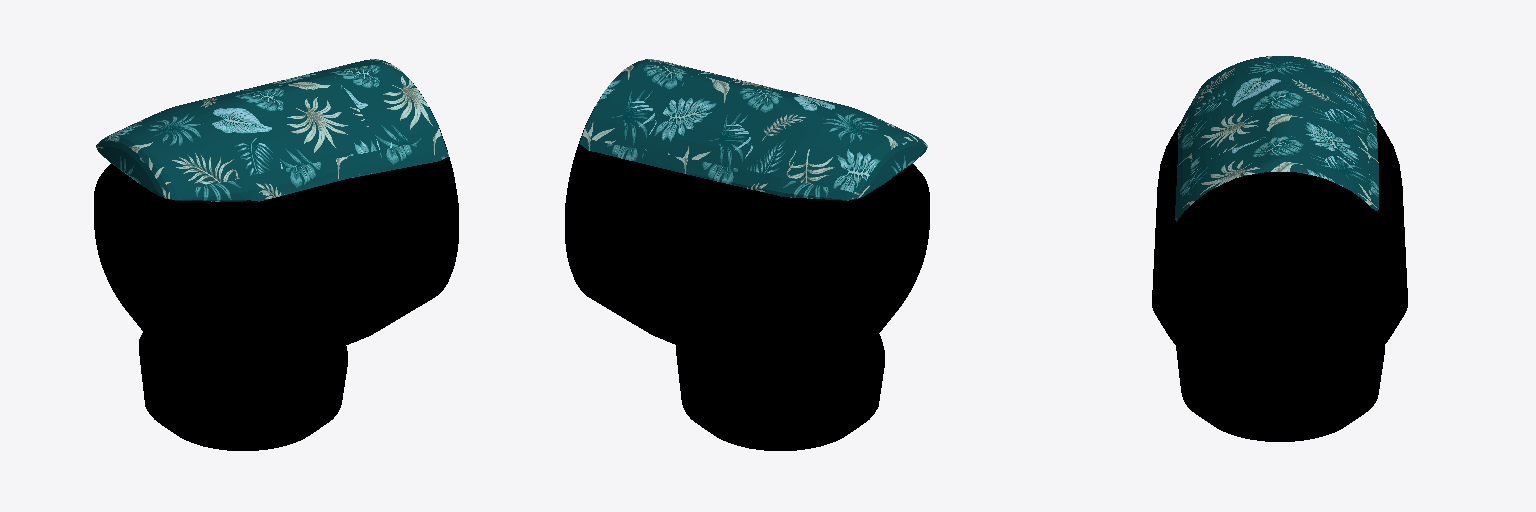
The picture shows the model from 3 angles: view 1: azimuth 30°, elevation 25°; view 2: azimuth 150°, elevation 25°; view 3: azimuth 270°, elevation 25°; orthographic projection.
Visible parts, largest first — view 1: arm0.link_wr0.001; view 2: arm0.link_wr0.001; view 3: arm0.link_wr0.001.
Boxes of the visible parts, box(x1,y1,x2,y2) form: arm0.link_wr0.001: box(94, 59, 458, 450); arm0.link_wr0.001: box(565, 59, 929, 450); arm0.link_wr0.001: box(1152, 56, 1407, 441).
Bounding box in the file's own units: 0.0993 × 0.1067 × 0.0775.
Materials: 2 (1 with a texture image).